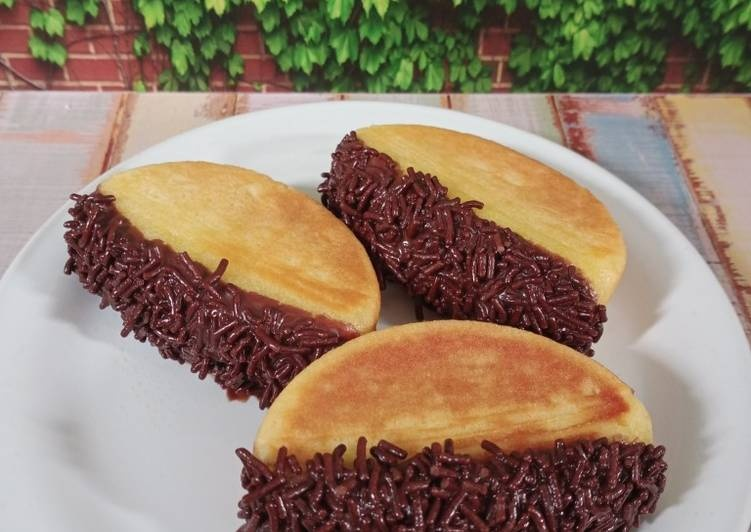pukis: (160, 310, 679, 532), (16, 154, 384, 401)
